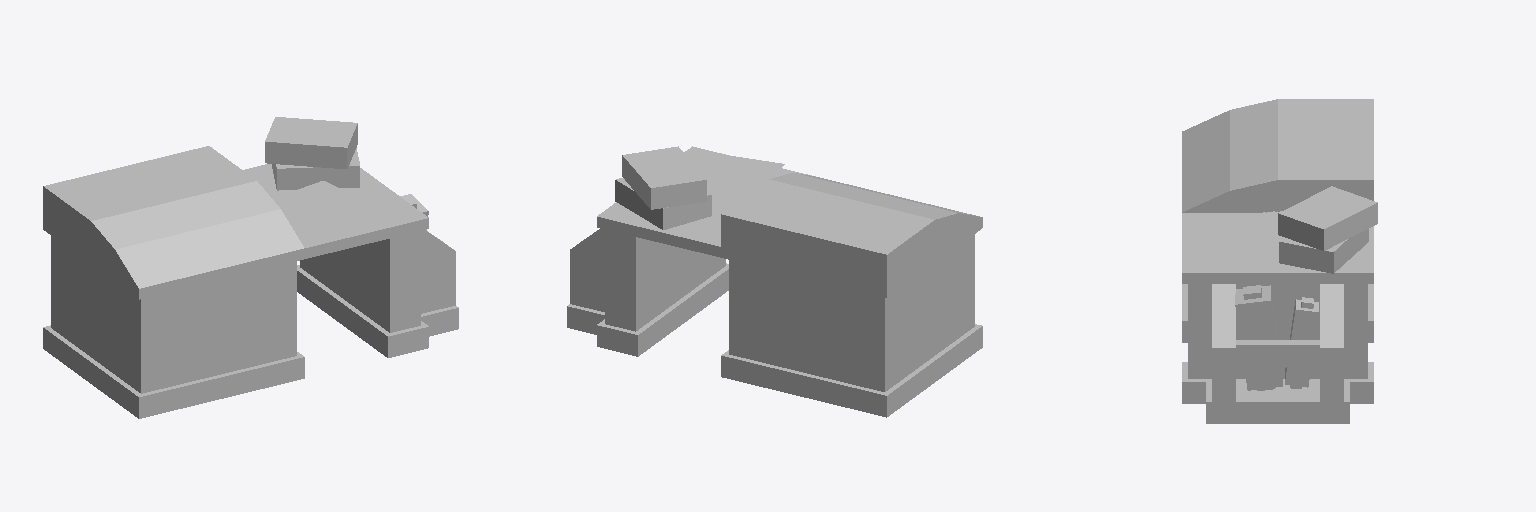
File: escritoire.obj
The picture shows the model from 3 angles: view 1: azimuth 30°, elevation 25°; view 2: azimuth 150°, elevation 25°; view 3: azimuth 270°, elevation 25°; orthographic projection.
Parts seen in each view (by area): view 1: drawerBottom, drawerTop, deskBoard2, deskBoard, deskBoard4, deskPartition, deskBaseW, deskBoard3, volume2, deskBaseE, draughtSheet3, scrollRackSideS1 (+3 smaller); view 2: deskBoard2, drawerBottom, drawerTop, deskPartition, deskBaseW, deskBoard, volume2, deskBaseE, deskBoard3, draughtSheet3, volume1, scrollRackSideN1 (+3 smaller); view 3: deskBoard2, deskPartition, deskBoard, deskBoard3, scrollRackBase, deskBoard4, volume2, scroll1, draughtSheet3, scrollRackStick, volume1, scrollRackSideN2 (+6 smaller).
Part boxes in pixels (left/top/right/bottom): drawerBottom: left=51, top=274, right=296, bottom=393; drawerTop: left=51, top=236, right=296, bottom=339; deskBoard2: left=43, top=146, right=256, bottom=252; deskBoard: left=43, top=164, right=428, bottom=299; deskBoard4: left=115, top=209, right=303, bottom=288; deskPartition: left=300, top=231, right=420, bottom=332; deskBaseW: left=43, top=325, right=304, bottom=418; deskBoard3: left=91, top=181, right=279, bottom=270; volume2: left=265, top=117, right=357, bottom=168; deskBaseE: left=297, top=265, right=428, bottom=357; draughtSheet3: left=273, top=181, right=384, bottom=230; scrollRackSideS1: left=421, top=251, right=455, bottom=313; deskBoard2: left=721, top=179, right=934, bottom=286; drawerBottom: left=729, top=273, right=974, bottom=391; drawerTop: left=729, top=234, right=974, bottom=337; deskPartition: left=605, top=230, right=725, bottom=331; deskBaseW: left=721, top=324, right=982, bottom=417; deskBoard: left=597, top=146, right=982, bottom=297; volume2: left=622, top=146, right=706, bottom=209; deskBaseE: left=597, top=263, right=728, bottom=356; deskBoard3: left=770, top=173, right=958, bottom=251; draughtSheet3: left=702, top=154, right=784, bottom=199; volume1: left=615, top=178, right=711, bottom=229; scrollRackSideN1: left=570, top=250, right=604, bottom=311; deskBoard2: left=1278, top=99, right=1373, bottom=211; deskPartition: left=1188, top=284, right=1367, bottom=378; deskBoard: left=1182, top=213, right=1373, bottom=283; deskBoard3: left=1230, top=99, right=1277, bottom=212; scrollRackBase: left=1206, top=382, right=1349, bottom=423; deskBoard4: left=1182, top=110, right=1229, bottom=212; volume2: left=1278, top=186, right=1377, bottom=250; scroll1: left=1235, top=285, right=1282, bottom=390; draughtSheet3: left=1189, top=211, right=1283, bottom=247; scrollRackStick: left=1236, top=340, right=1319, bottom=366; volume1: left=1279, top=229, right=1368, bottom=273; scrollRackSideN2: left=1320, top=284, right=1343, bottom=347.
Size of the model in its own units: 2 by 1 by 1.02.